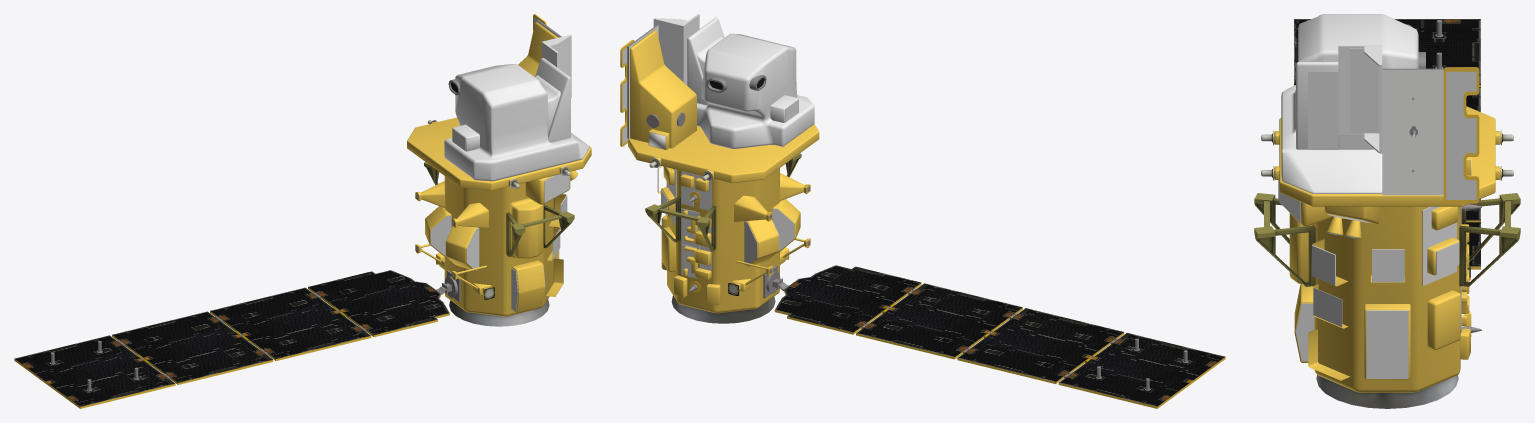
The model's file is LandSat8.gltf.
3 views of the same model, side by side, from view 1: azimuth 30°, elevation 25°; view 2: azimuth 150°, elevation 25°; view 3: azimuth 270°, elevation 25° (orthographic). The views are drawn at different scales.
Visible parts, largest first — view 1: Instruments, BUS, white_matte, reflectors; view 2: Instruments, BUS, white_matte, reflectors, back_reflector; view 3: BUS, Instruments, reflectors, white_matte, back_reflector.
Part boxes in pixels (box(x1,y1,x2,y2)): Instruments: box(14, 19, 574, 408); BUS: box(407, 22, 591, 316); white_matte: box(444, 35, 589, 181); reflectors: box(430, 129, 569, 311); Instruments: box(627, 25, 1225, 408); BUS: box(628, 30, 819, 313); white_matte: box(653, 14, 814, 148); reflectors: box(649, 99, 798, 278); back_reflector: box(620, 39, 634, 146); BUS: box(1274, 106, 1500, 392); Instruments: box(1254, 19, 1520, 408); reflectors: box(1278, 48, 1471, 378); white_matte: box(1281, 14, 1418, 193); back_reflector: box(1443, 67, 1479, 203).
Bounding box in the file's own units: 10.85 × 5.02 × 3.35.
Materials: 12 (3 with a texture image).
